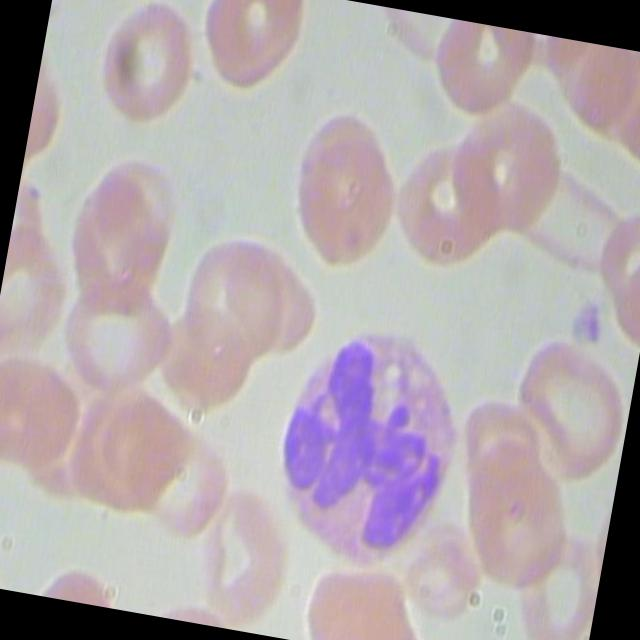RBC: (268, 96, 418, 274), (488, 326, 639, 494), (48, 250, 186, 408), (442, 83, 580, 240), (168, 225, 306, 382), (185, 479, 302, 636), (80, 0, 212, 137), (191, 0, 316, 107), (504, 513, 608, 640), (294, 552, 439, 640), (424, 17, 540, 122)
WBC: (246, 304, 492, 589)
